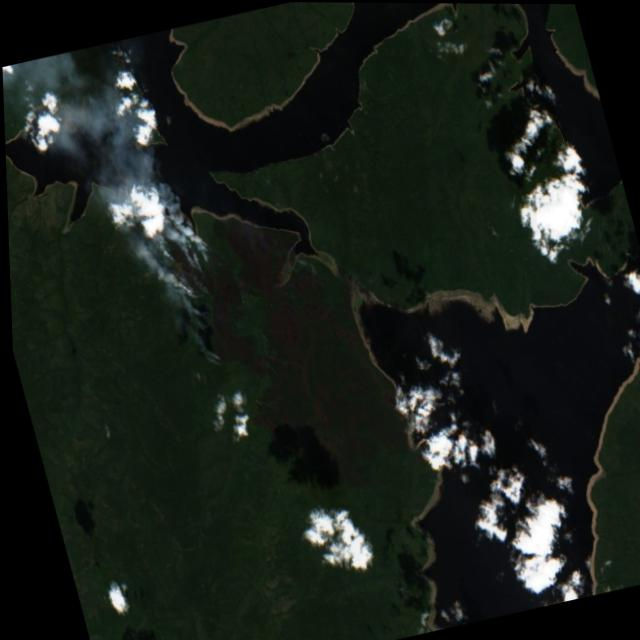fire: (128, 180, 267, 386)
